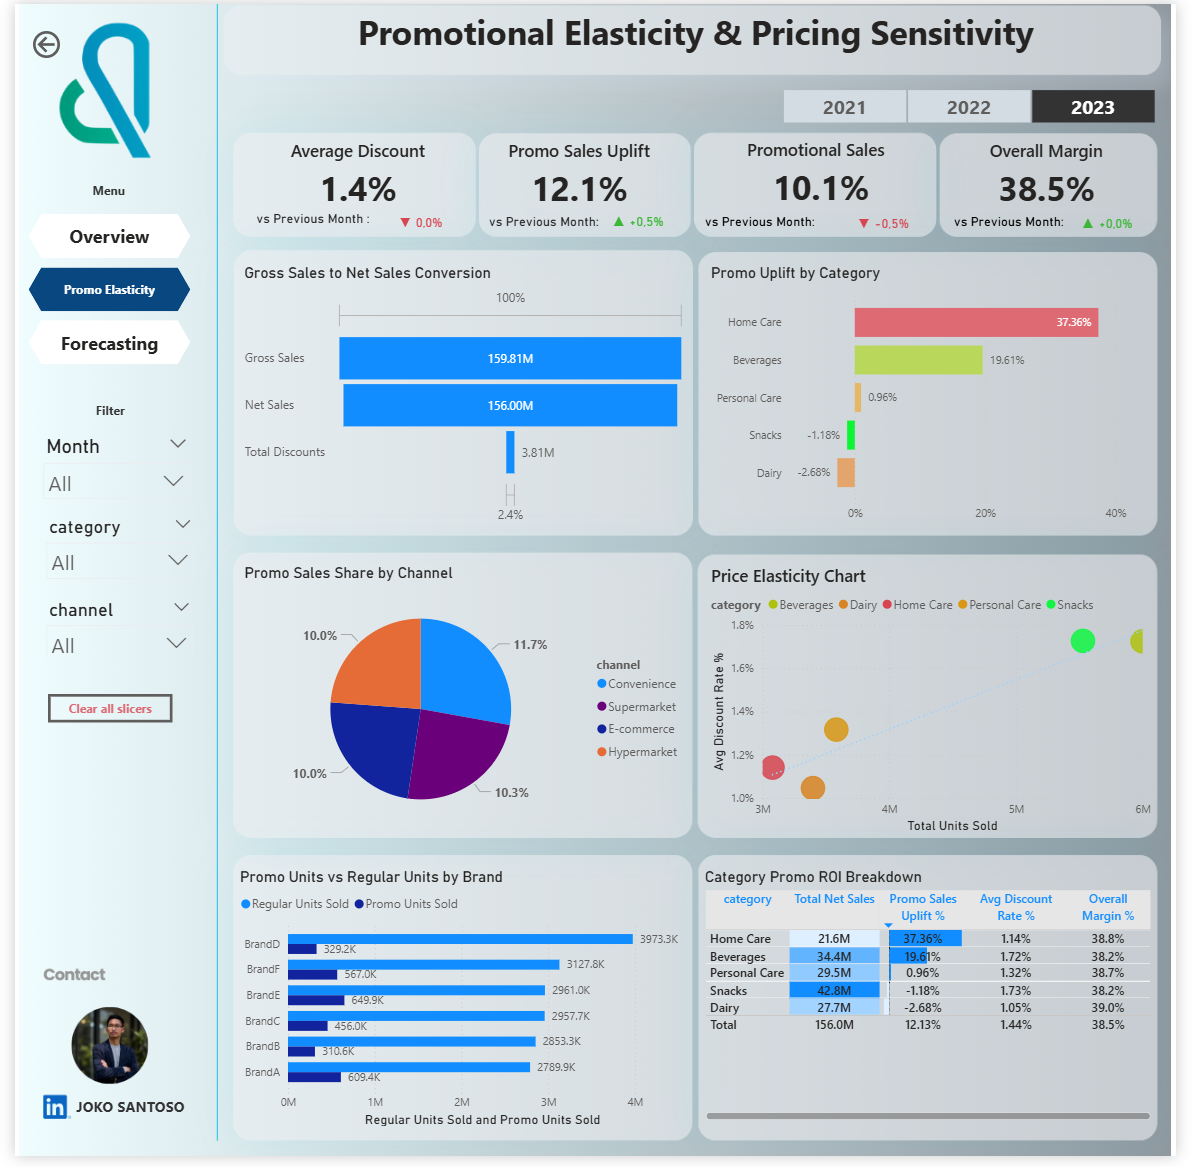

This screenshot's page, from the dashboard's own definition file:
{"tool":"powerbi","page":{"name":"Promo Elasticity","canvas":[1290,1280],"ordinal":1},"visuals":[{"type":"textbox","box":[224,0,1066,88],"z":0},{"type":"card","title":"Average Discount","fields":{"Values":["_Measures.Avg Discount Rate %"]},"box":[293.3,150,175,83.3],"z":1000},{"type":"card","title":"Overall Margin","fields":{"Values":["_Measures.Overall Margin %"]},"box":[1060,150,171.7,83.3],"z":2000},{"type":"card","title":"Promotional Sales","fields":{"Values":["mes dash 2.Promotional Sales Share %"]},"box":[808.3,148.3,173.3,85],"z":3000},{"type":"card","title":"Promo Sales Uplift","fields":{"Values":["mes dash 2.Promo Sales Uplift %"]},"box":[521.7,150,210,83.3],"z":4000},{"type":"scatterChart","title":"Price Elasticity Chart","fields":{"X":["_Measures.Total Units Sold"],"Y":["mes dash 2.Avg Discount Rate %"],"Series":["fmcg_master_clean.category"]},"box":[768.3,621.7,498.3,303.3],"z":5000},{"type":"clusteredBarChart","title":"Promo Uplift by Category","fields":{"Category":["fmcg_master_clean.category"],"Y":["mes dash 2.Promo Sales Uplift %"]},"box":[768.3,288.3,498.3,295],"z":6000},{"type":"pieChart","title":"Promo Sales Share by Channel","fields":{"Category":["fmcg_master_clean.channel"],"Y":["mes dash 2.Promotional Sales Share %"]},"box":[250,621.7,500,303.3],"z":7000},{"type":"slicer","fields":{"Values":["Dim_Date.Year"]},"box":[828.3,88.3,461.7,46.7],"z":8000},{"type":"slicer","fields":{"Values":["Dim_Date.MonthName"]},"box":[21.1,472.8,181.7,90],"z":9000},{"type":"card","fields":{"Values":["mes dash 2.Promo Sales Uplift Indicator"]},"box":[652,229,80,27],"z":10000},{"type":"textbox","box":[263,224,140,37],"z":12000},{"type":"textbox","box":[522,226,166,35],"z":13000},{"type":"card","fields":{"Values":["mes dash 2.Promo Sales Share Indicator"]},"box":[913.3,230,101.7,25],"z":14000},{"type":"textbox","box":[761.7,226.7,183.3,31.7],"z":15000},{"type":"card","fields":{"Values":["mes dash 2.Avg Discount Rate Indicator"]},"box":[401,226,97,33],"z":16000},{"type":"tableEx","title":"Category Promo ROI Breakdown","fields":{"Values":["fmcg_master_clean.category","_Measures.Total Net Sales","mes dash 2.Promo Sales Uplift %","mes dash 2.Avg Discount Rate %","_Measures.Overall Margin %"]},"box":[761.2,960,505,285],"z":17000},{"type":"funnel","title":"Gross Sales to Net Sales Conversion","fields":{"Category":["Dim_Sales_Funnel.Funnel Step"],"Y":["Margin Bridge Value.Funnel Value"]},"box":[250,288.3,500,295],"z":18000},{"type":"clusteredBarChart","title":"Promo Units vs Regular Units by Brand","fields":{"Category":["fmcg_master_clean.brand"],"Y":["mes dash 2.Regular Units Sold","mes dash 2.Promo Units Sold"]},"box":[245,960,505,291.7],"z":23000},{"type":"slicer","fields":{"Values":["fmcg_master_clean.channel"]},"box":[24.4,654.4,181.7,70],"z":24000},{"type":"slicer","fields":{"Values":["fmcg_master_clean.category"]},"box":[24.4,562.8,183.3,78.3],"z":25000},{"type":"card","fields":{"Values":["mes dash 2.Overall Margin Indicator"]},"box":[1173.3,230,78.9,24.4],"z":26000},{"type":"textbox","box":[1038.3,226.7,155,30],"z":27000},{"type":"pageNavigator","box":[15,233.3,180,168.3],"z":28000},{"type":"textbox","box":[58.3,191.7,91.7,31.7],"z":29000},{"type":"actionButton","box":[36.7,766.7,138.3,31.7],"z":29002},{"type":"actionButton","box":[15,25,100,40],"z":29003},{"type":"textbox","box":[60,436.7,91.7,31.7],"z":29004},{"type":"textbox","box":[53.3,1208.3,150,36.7],"z":29005}]}

Visuals, with their boxes on the page's 1290x1280 design canvas (x1, y1, x2, y2). These are canvas units, not pixel positions in the 1192x1167 screenshot, which may show the page scaled, cropped or inside an application window:
textbox: rect(224, 0, 1290, 88)
"Average Discount" card: rect(293, 150, 468, 233)
"Overall Margin" card: rect(1060, 150, 1232, 233)
"Promotional Sales" card: rect(808, 148, 982, 233)
"Promo Sales Uplift" card: rect(522, 150, 732, 233)
"Price Elasticity Chart" scatterChart: rect(768, 622, 1267, 925)
"Promo Uplift by Category" clusteredBarChart: rect(768, 288, 1267, 583)
"Promo Sales Share by Channel" pieChart: rect(250, 622, 750, 925)
slicer - Dim_Date.Year: rect(828, 88, 1290, 135)
slicer - Dim_Date.MonthName: rect(21, 473, 203, 563)
card - mes dash 2.Promo Sales Uplift Indicator: rect(652, 229, 732, 256)
textbox: rect(263, 224, 403, 261)
textbox: rect(522, 226, 688, 261)
card - mes dash 2.Promo Sales Share Indicator: rect(913, 230, 1015, 255)
textbox: rect(762, 227, 945, 258)
card - mes dash 2.Avg Discount Rate Indicator: rect(401, 226, 498, 259)
"Category Promo ROI Breakdown" tableEx: rect(761, 960, 1266, 1245)
"Gross Sales to Net Sales Conversion" funnel: rect(250, 288, 750, 583)
"Promo Units vs Regular Units by Brand" clusteredBarChart: rect(245, 960, 750, 1252)
slicer - fmcg_master_clean.channel: rect(24, 654, 206, 724)
slicer - fmcg_master_clean.category: rect(24, 563, 208, 641)
card - mes dash 2.Overall Margin Indicator: rect(1173, 230, 1252, 254)
textbox: rect(1038, 227, 1193, 257)
pageNavigator: rect(15, 233, 195, 402)
textbox: rect(58, 192, 150, 223)
actionButton: rect(37, 767, 175, 798)
actionButton: rect(15, 25, 115, 65)
textbox: rect(60, 437, 152, 468)
textbox: rect(53, 1208, 203, 1245)
